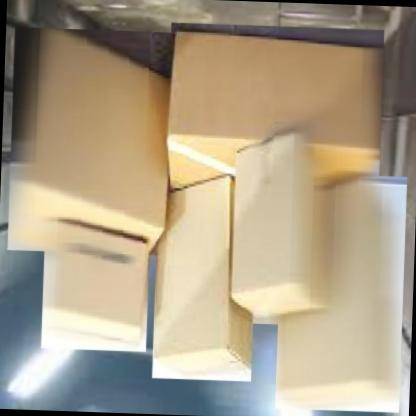box: (6, 24, 176, 258), (162, 19, 389, 193), (273, 168, 410, 416), (151, 164, 260, 386), (228, 118, 327, 329), (40, 213, 153, 354)
